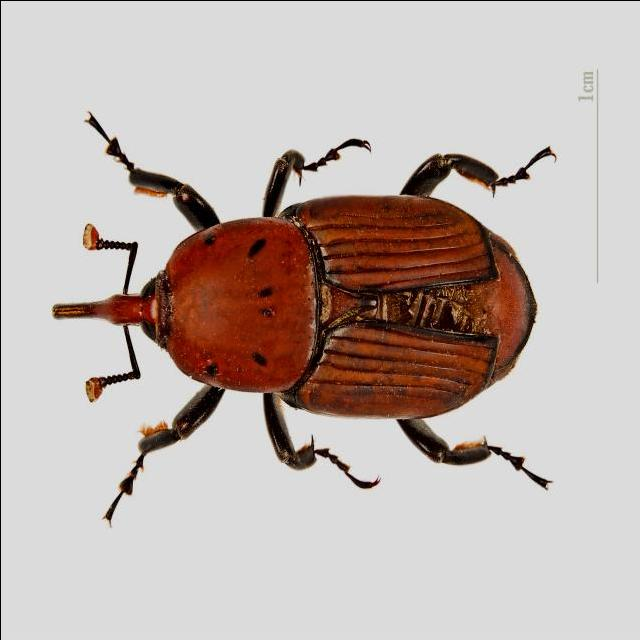Red-palm-weevil: (48, 161, 539, 451)
